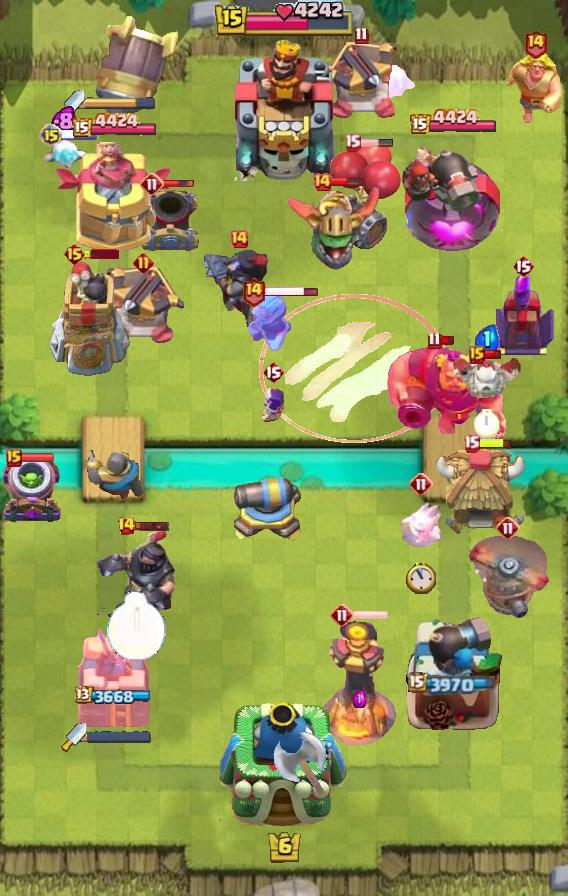bar: (55, 142, 173, 256), (75, 623, 153, 731)
bat: (399, 501, 443, 547), (41, 137, 87, 173)
clock: (213, 0, 355, 40)
dark-prince: (461, 536, 555, 618)
electro-dragon: (320, 619, 398, 745)
electro-spirit: (51, 105, 77, 137), (474, 324, 500, 354), (354, 690, 367, 708)
elixir: (106, 591, 167, 662), (406, 561, 436, 594), (474, 409, 500, 439)
emote: (265, 286, 320, 299), (477, 438, 513, 451), (134, 520, 171, 532), (351, 609, 388, 621), (329, 176, 365, 188), (19, 453, 55, 464), (60, 130, 98, 140), (358, 138, 394, 148), (83, 249, 119, 259), (161, 179, 195, 189), (482, 348, 501, 359), (439, 334, 456, 345)
firecracker: (83, 450, 145, 500)
goblin: (260, 386, 286, 422)
goblin-cage: (0, 455, 64, 525)
goblin-hut: (508, 51, 564, 124)
ice-spirit-evolution-symbol: (491, 270, 555, 358)
ice-wizard: (259, 293, 449, 442)
inferno-dragon: (201, 245, 277, 331)
king-tower: (228, 35, 340, 181), (220, 702, 348, 827)
king-tower-bar: (85, 97, 155, 111), (87, 731, 151, 743)
lava-pup: (320, 42, 402, 122), (102, 267, 184, 347)
lightning: (386, 345, 509, 445)
mini-pekka: (450, 352, 524, 400)
mirror: (367, 64, 417, 102)
mortar: (244, 288, 294, 354)
musketeer: (139, 187, 201, 255)
night-witch: (285, 184, 381, 272)
prince: (435, 447, 529, 537)
royal-giant: (271, 729, 329, 801)
royal-guardian: (96, 526, 176, 618)
royal-recruit: (233, 462, 305, 546)
royal-recruit-evolution: (325, 139, 403, 253)
selected: (410, 108, 499, 137), (70, 112, 157, 140), (408, 672, 498, 696), (75, 686, 153, 706)
text: (241, 277, 266, 308), (524, 28, 548, 59), (39, 123, 63, 147), (140, 172, 164, 196), (409, 472, 433, 496), (496, 516, 520, 540), (330, 603, 354, 627), (63, 242, 86, 266), (512, 254, 534, 278), (262, 360, 284, 384), (133, 252, 154, 273), (312, 172, 332, 192), (229, 229, 249, 249), (116, 516, 136, 536), (463, 435, 481, 454), (343, 133, 360, 151), (469, 346, 485, 364), (6, 449, 22, 467), (427, 330, 442, 349), (355, 27, 369, 46)
tower-bar: (402, 136, 504, 256), (402, 615, 504, 731)
x-bow: (95, 14, 179, 122)
zappy: (48, 259, 133, 381)
